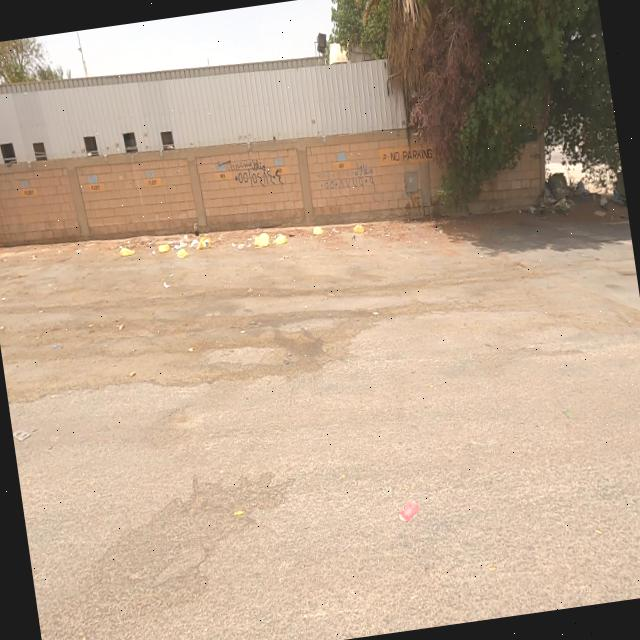Graffiti: (217, 155, 287, 195), (319, 160, 380, 203)
